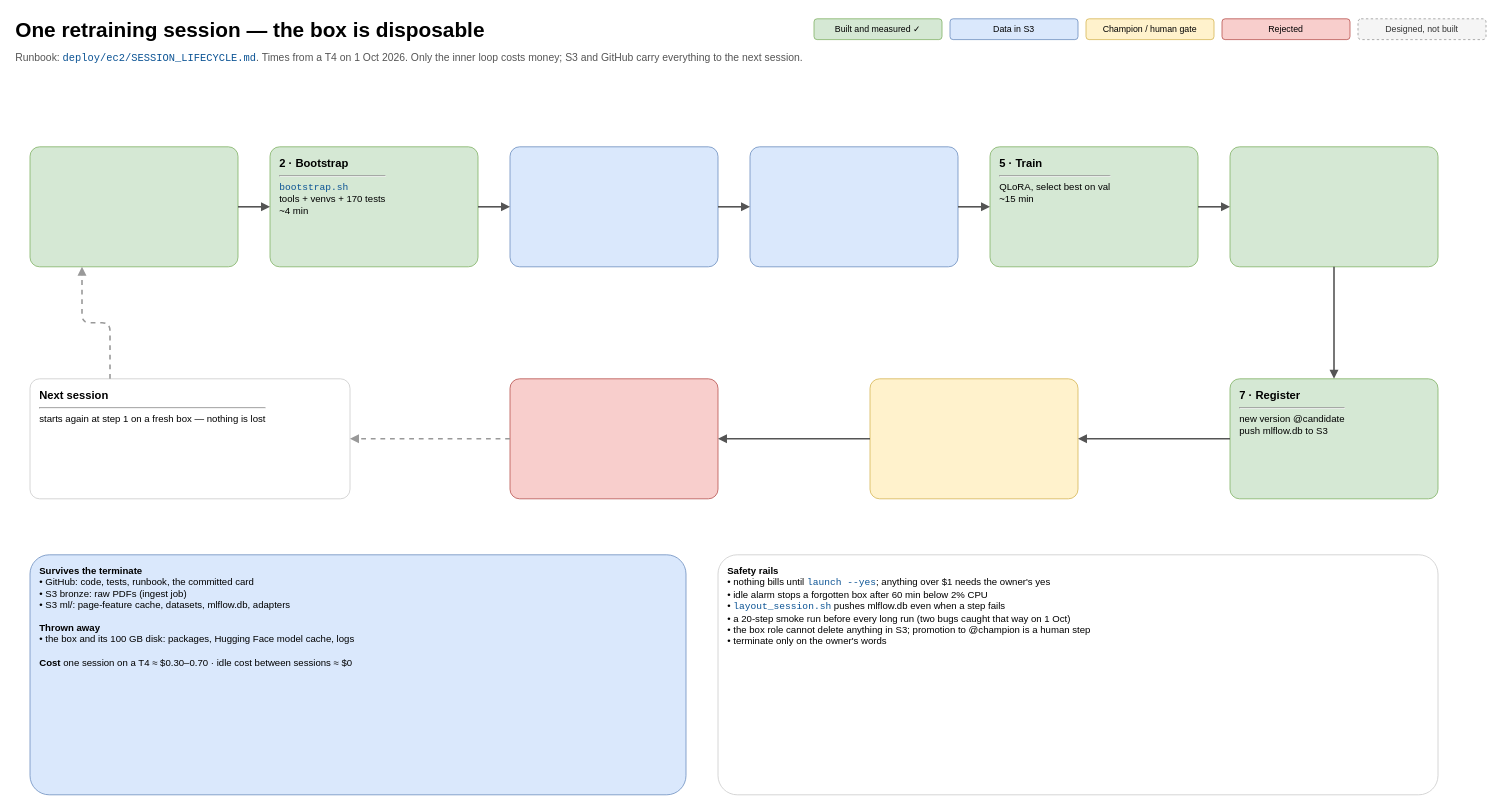
Some shapes in this 1500 by 809 pixel diagram are drawn without their labels. Here are the shapes that lost their labels. From the top down, the centre of each, then its label:
(x=133, y=206): 1 · Launch launch.sh launch --yes g6 → g5 → g4dn, zone 1a/1b ~2 min
(x=613, y=206): 3 · Pull state mlflow.db from S3 seconds
(x=853, y=206): 4 · Dataset build from S3 bronze cached: 10 s (first time 8 min)
(x=1333, y=206): 6 · Evaluate val + locked test, per label ~3 min
(x=613, y=438): 9 · Terminate copy the card, then launch.sh terminate --yes
(x=973, y=438): 8 · Review (human) read the card promote → @champion?
